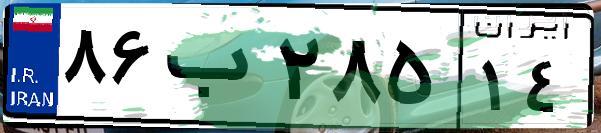1: (475, 38, 525, 113)
2: (270, 28, 330, 110)
4: (525, 38, 570, 115)
5: (385, 28, 445, 110)
6: (110, 28, 158, 98)
8: (330, 28, 385, 110), (57, 26, 110, 100)
ب: (158, 20, 270, 120)
